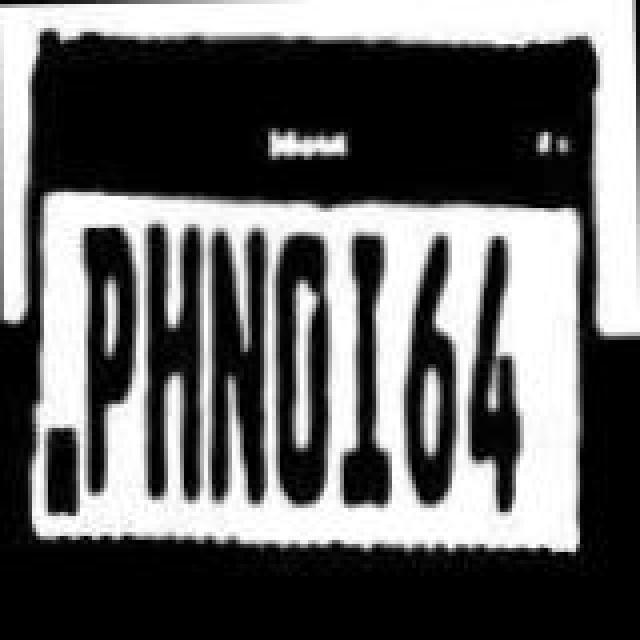4: (462, 234, 522, 526)
6: (396, 230, 456, 506)
D: (268, 224, 328, 508)
H: (136, 216, 204, 508)
I: (334, 226, 390, 514)
N: (204, 228, 272, 508)
P: (80, 214, 140, 498)
